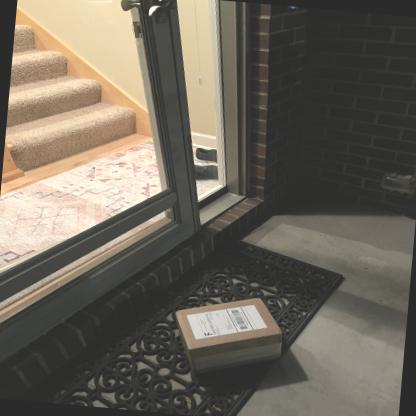box: (168, 300, 287, 374)
